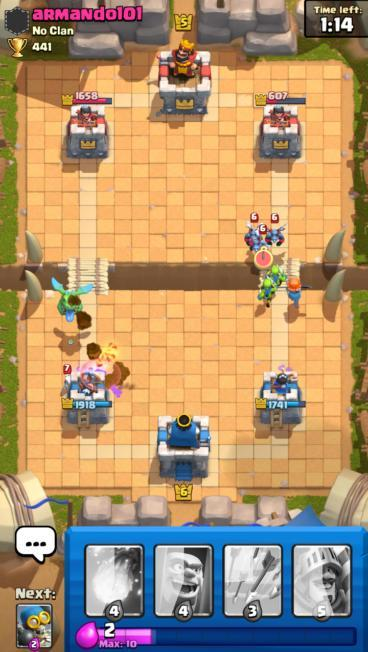ally_baby_dragon: (49, 275, 94, 323)
ally_goblin: (255, 277, 279, 309), (263, 260, 287, 292)
ally_valkyrie: (282, 272, 312, 310)
enemy_minion: (263, 211, 287, 247), (250, 224, 274, 258), (243, 211, 265, 248)
enemy_skeleton: (60, 362, 77, 391)
